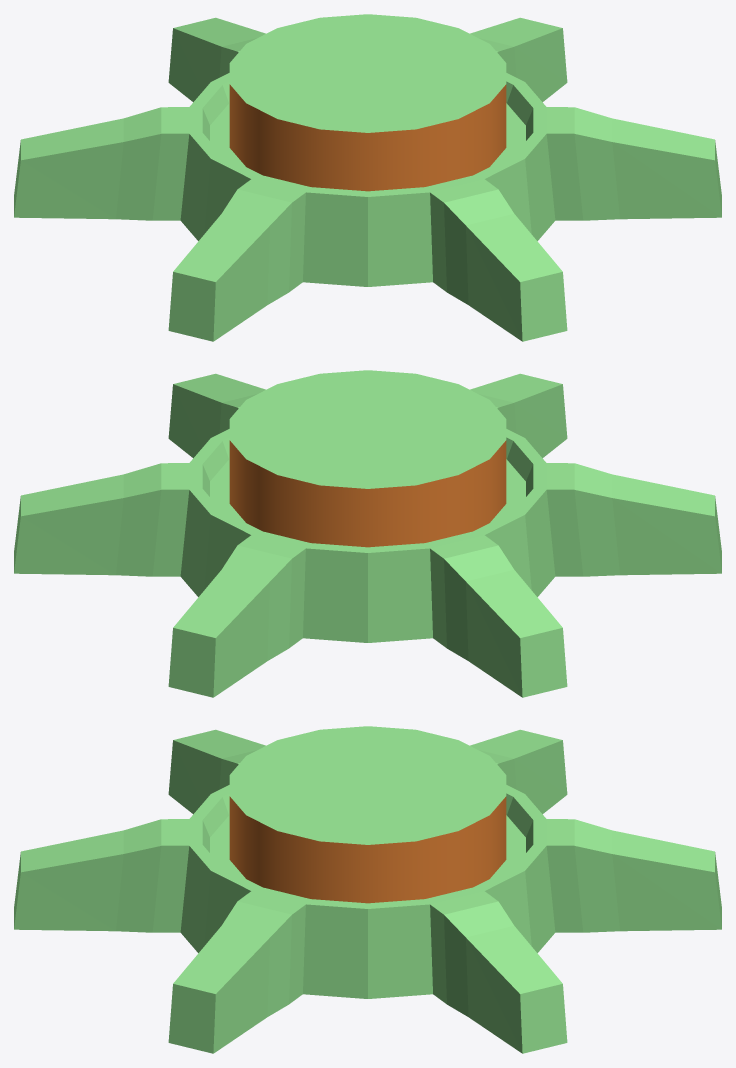
File: Turret_Stand 1.FBX
3 views of the same model, one above another, from view 1: azimuth 30°, elevation 25°; view 2: azimuth 150°, elevation 25°; view 3: azimuth 270°, elevation 25° (orthographic).
Parts seen in each view (by area): view 1: TurretStand; view 2: TurretStand; view 3: TurretStand.
Part boxes in pixels (x1,y1,x2,y2): TurretStand: [14, 14, 721, 341]; TurretStand: [14, 370, 721, 697]; TurretStand: [14, 726, 721, 1053].
Bounding box in the file's own units: 34.23 × 7.88 × 37.92.
